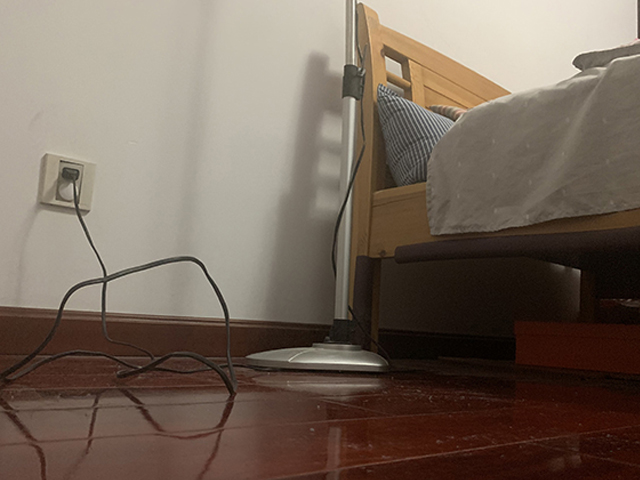bed: (345, 1, 640, 356)
wire: (1, 169, 257, 393)
